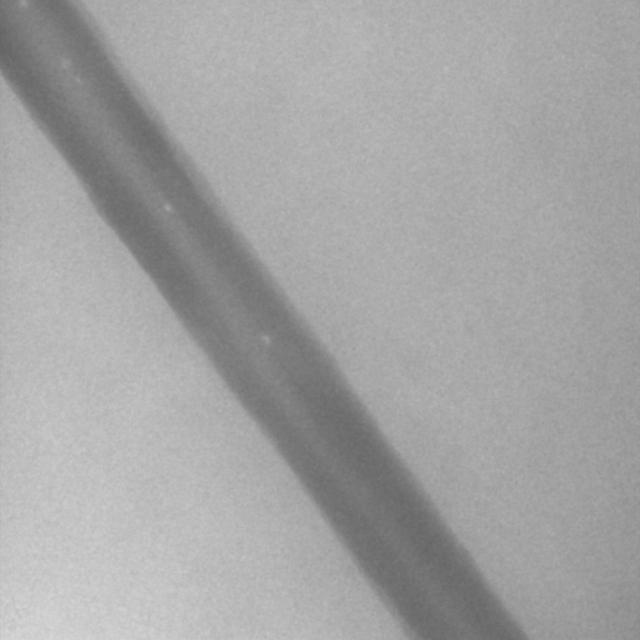air hole: (161, 201, 173, 214), (260, 333, 271, 346)
